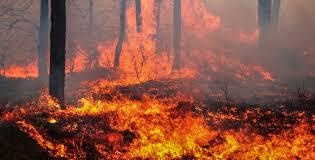fire: (0, 9, 278, 160)
